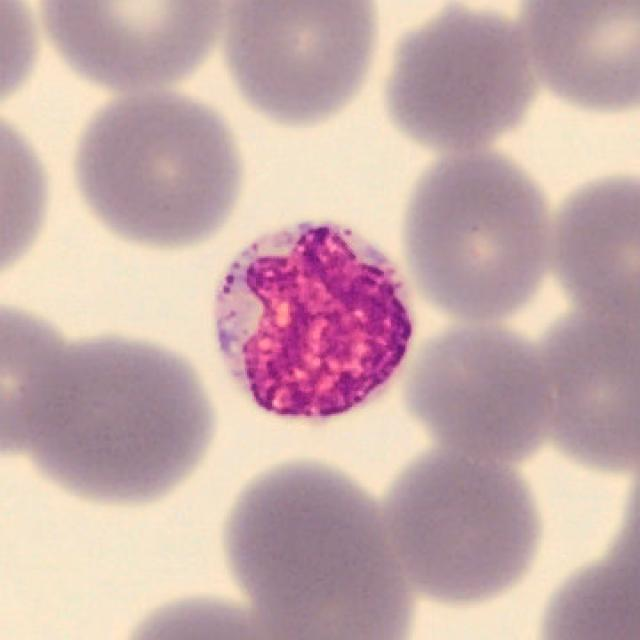Linfocito atipico: (213, 222, 418, 420)
